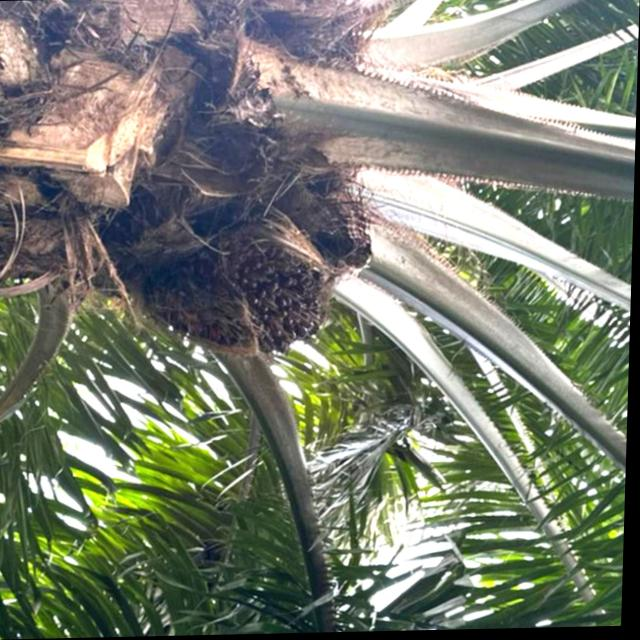ripe: (136, 210, 348, 375)
